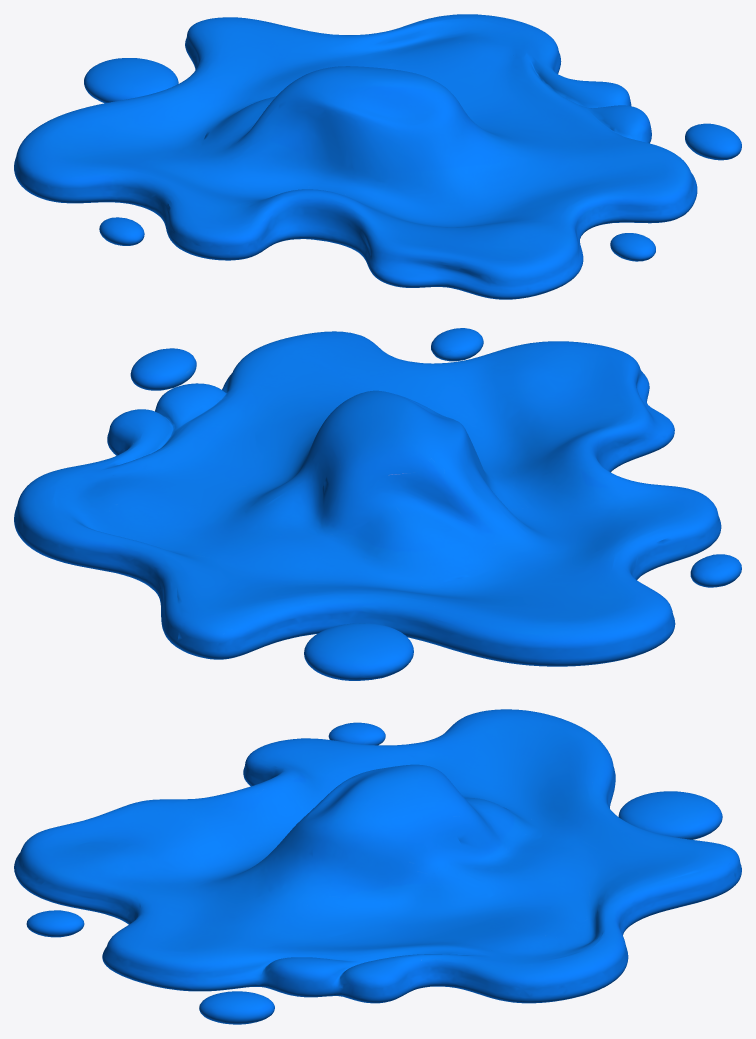
Rendered from MeltedPlastic.fbx.
3 views of the same model, one above another, from view 1: azimuth 30°, elevation 25°; view 2: azimuth 150°, elevation 25°; view 3: azimuth 270°, elevation 25° (orthographic). The views are drawn at different scales.
Parts seen in each view (by area): view 1: node_0; view 2: node_0; view 3: node_0.
Part boxes in pixels (x1,y1,x2,y2): node_0: (14, 14, 741, 299); node_0: (14, 328, 741, 680); node_0: (14, 709, 741, 1024).
Bounding box in the file's own units: 110 × 17.49 × 113.
Materials: 1 (1 with a texture image).
